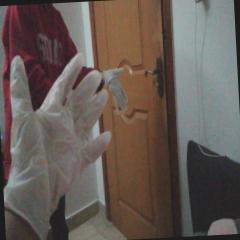gloved: (0, 51, 116, 239), (104, 66, 130, 114)
